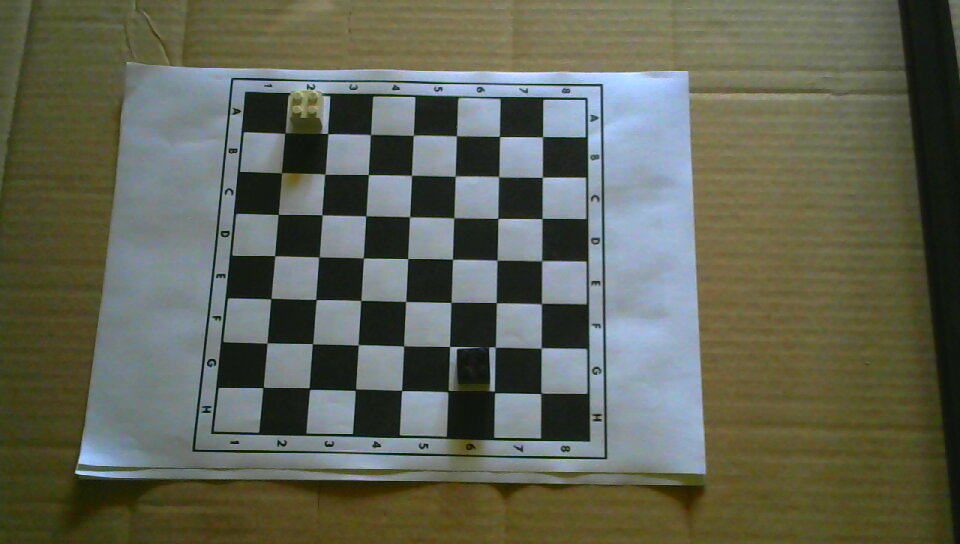bp: (455, 346, 492, 386)
wp: (289, 89, 325, 129)
